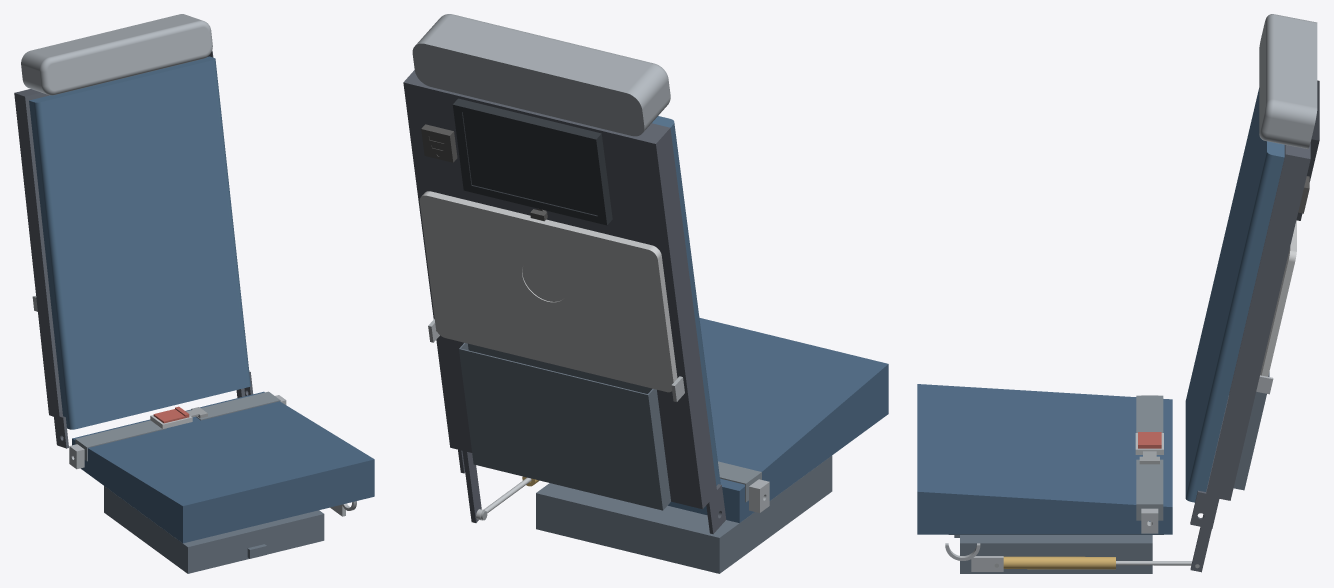
Rendered from esp2026_single_seat.glb.
The picture shows the model from 3 angles, left to right: view 1: azimuth 30°, elevation 25°; view 2: azimuth 150°, elevation 25°; view 3: azimuth 270°, elevation 25°; orthographic projection. The views are drawn at different scales.
Parts seen in each view (by area): view 1: back cushion cover, cushion cover, head rest, life vest pouch, back shell, belt webbing, buckle side, belt webbing, adjuster side; view 2: tray table, back shell, literature pocket, cushion cover, head rest, entertainment screen, life vest pouch, back cushion cover, power and audio module, belt webbing, buckle side, belt anchor, left; view 3: cushion cover, back cushion cover, back shell, head rest, life vest pouch, recline lock, belt webbing, adjuster side, tray table, literature pocket, belt webbing, buckle side, recline lock bracket, entertainment screen.
Part boxes in pixels (<box>): back cushion cover: <box>29,56,250,429</box>; cushion cover: <box>72,391,374,543</box>; head rest: <box>21,14,212,95</box>; life vest pouch: <box>104,486,324,573</box>; back shell: <box>14,50,253,448</box>; belt webbing, buckle side: <box>75,420,166,461</box>; belt webbing, adjuster side: <box>196,391,280,420</box>; tray table: <box>419,191,677,392</box>; back shell: <box>403,70,726,534</box>; literature pocket: <box>459,343,670,510</box>; cushion cover: <box>668,317,888,522</box>; head rest: <box>412,14,670,136</box>; entertainment screen: <box>452,98,612,225</box>; life vest pouch: <box>536,455,832,573</box>; back cushion cover: <box>652,116,720,485</box>; power and audio module: <box>421,124,457,162</box>; belt webbing, buckle side: <box>718,461,761,502</box>; belt anchor, left: <box>749,479,769,512</box>; cushion cover: <box>917,384,1172,534</box>; back cushion cover: <box>1185,88,1284,502</box>; back shell: <box>1190,143,1310,572</box>; head rest: <box>1259,14,1317,148</box>; life vest pouch: <box>954,535,1152,573</box>; recline lock: <box>1003,556,1115,569</box>; belt webbing, adjuster side: <box>1136,459,1163,520</box>; tray table: <box>1260,220,1296,376</box>; literature pocket: <box>1233,372,1269,490</box>; belt webbing, buckle side: <box>1136,395,1163,432</box>; recline lock bracket: <box>945,543,1003,571</box>; entertainment screen: <box>1296,80,1319,220</box>.
Size of the model in its own units: 492 by 936 by 709.
